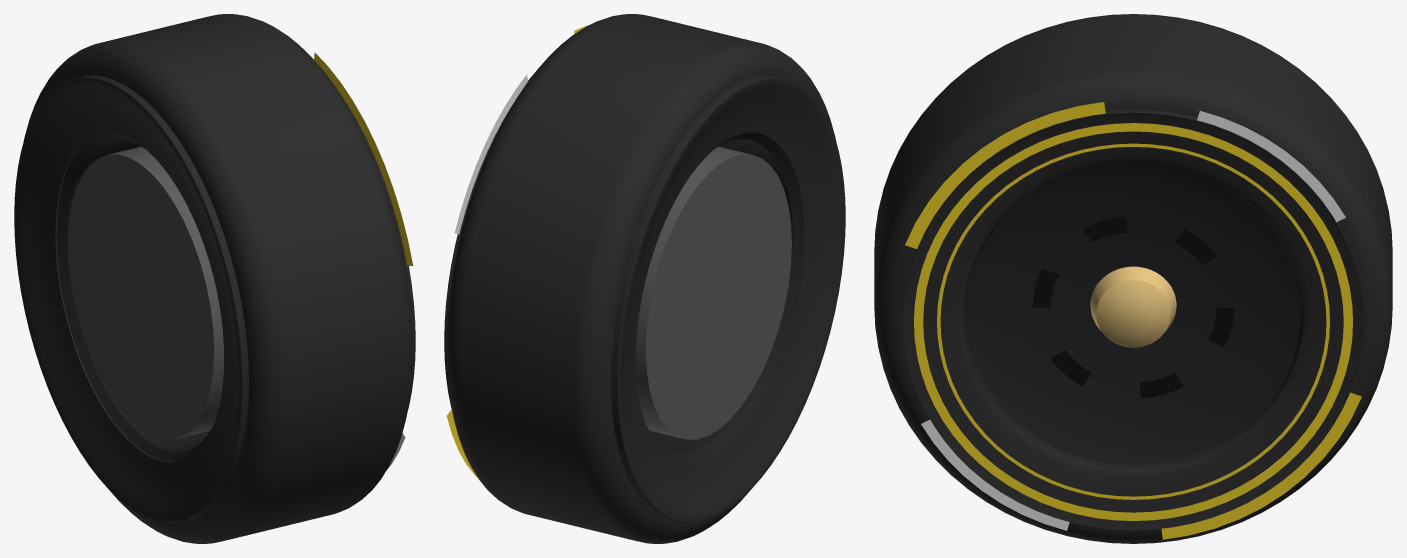
Rendered from f1_2026_wheel_front.glb.
3 views of the same model, side by side, from view 1: azimuth 30°, elevation 25°; view 2: azimuth 150°, elevation 25°; view 3: azimuth 270°, elevation 25° (orthographic).
Visible parts, largest first — view 1: wheel_front_Tyre, wheel_front_Brake, wheel_front_Rim, wheel_front_TyreStripe; view 2: wheel_front_Tyre, wheel_front_Brake, wheel_front_Rim, wheel_front_TyreText; view 3: wheel_front_Tyre, wheel_front_Rim, wheel_front_TyreStripe, wheel_front_RimGold, wheel_front_Inlet, wheel_front_TyreText.
Part boxes in pixels (<box>): wheel_front_Tyre: <box>14,14,415,543</box>; wheel_front_Brake: <box>68,146,224,439</box>; wheel_front_Rim: <box>56,132,213,461</box>; wheel_front_TyreStripe: <box>314,52,413,266</box>; wheel_front_Tyre: <box>444,14,845,543</box>; wheel_front_Brake: <box>635,146,791,439</box>; wheel_front_Rim: <box>646,132,803,461</box>; wheel_front_TyreText: <box>454,74,528,233</box>; wheel_front_Tyre: <box>874,14,1392,543</box>; wheel_front_Rim: <box>963,161,1303,469</box>; wheel_front_TyreStripe: <box>905,102,1361,539</box>; wheel_front_RimGold: <box>1090,266,1176,347</box>; wheel_front_Inlet: <box>1032,216,1234,398</box>; wheel_front_TyreText: <box>921,111,1345,530</box>.
Bounding box in the file's own units: 0.283 × 0.72 × 0.72.
